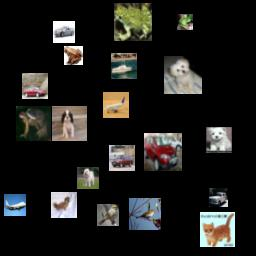airplane: (103, 92, 129, 118), (4, 194, 26, 216)
automobile: (144, 133, 182, 171), (109, 145, 135, 171), (22, 73, 48, 99), (53, 21, 75, 43), (209, 188, 228, 207)
bird: (129, 198, 161, 230), (97, 204, 119, 226)
cat: (200, 212, 235, 247)
dog: (164, 56, 202, 94), (52, 106, 87, 141), (51, 192, 77, 218), (206, 127, 232, 153), (77, 167, 99, 189)
frog: (114, 3, 152, 41), (16, 106, 51, 141), (64, 46, 83, 65), (177, 14, 193, 30)
ship: (111, 53, 137, 79)
